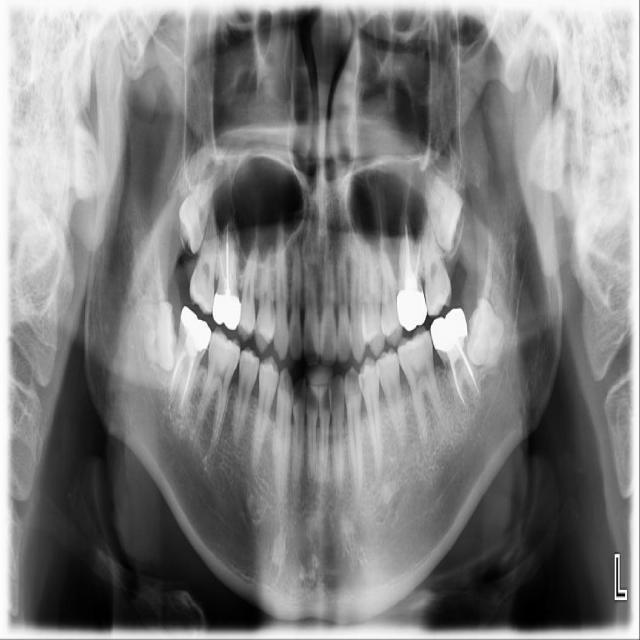3M ESPE Implant: (171, 173, 217, 255)
52: (171, 301, 220, 354), (427, 306, 471, 353), (395, 288, 429, 332), (210, 292, 244, 332)
73: (434, 334, 493, 415), (164, 319, 211, 418), (212, 216, 240, 303), (398, 218, 424, 295), (583, 569, 591, 580)
BioHorizons Implant: (419, 208, 454, 319)
BioLife Implant: (424, 167, 464, 253)
Biomet 3i Implant: (465, 297, 506, 368)
Blue Sky Bio Implant: (425, 306, 488, 414)
Caries: (188, 200, 219, 316)
Implant: (180, 309, 182, 314)
Keystone Dental Implant: (141, 300, 179, 371)
